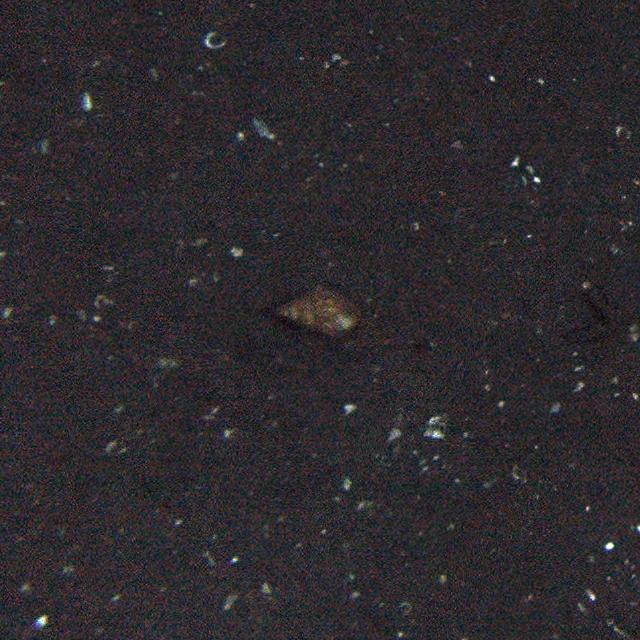whelk: (268, 279, 363, 341)
